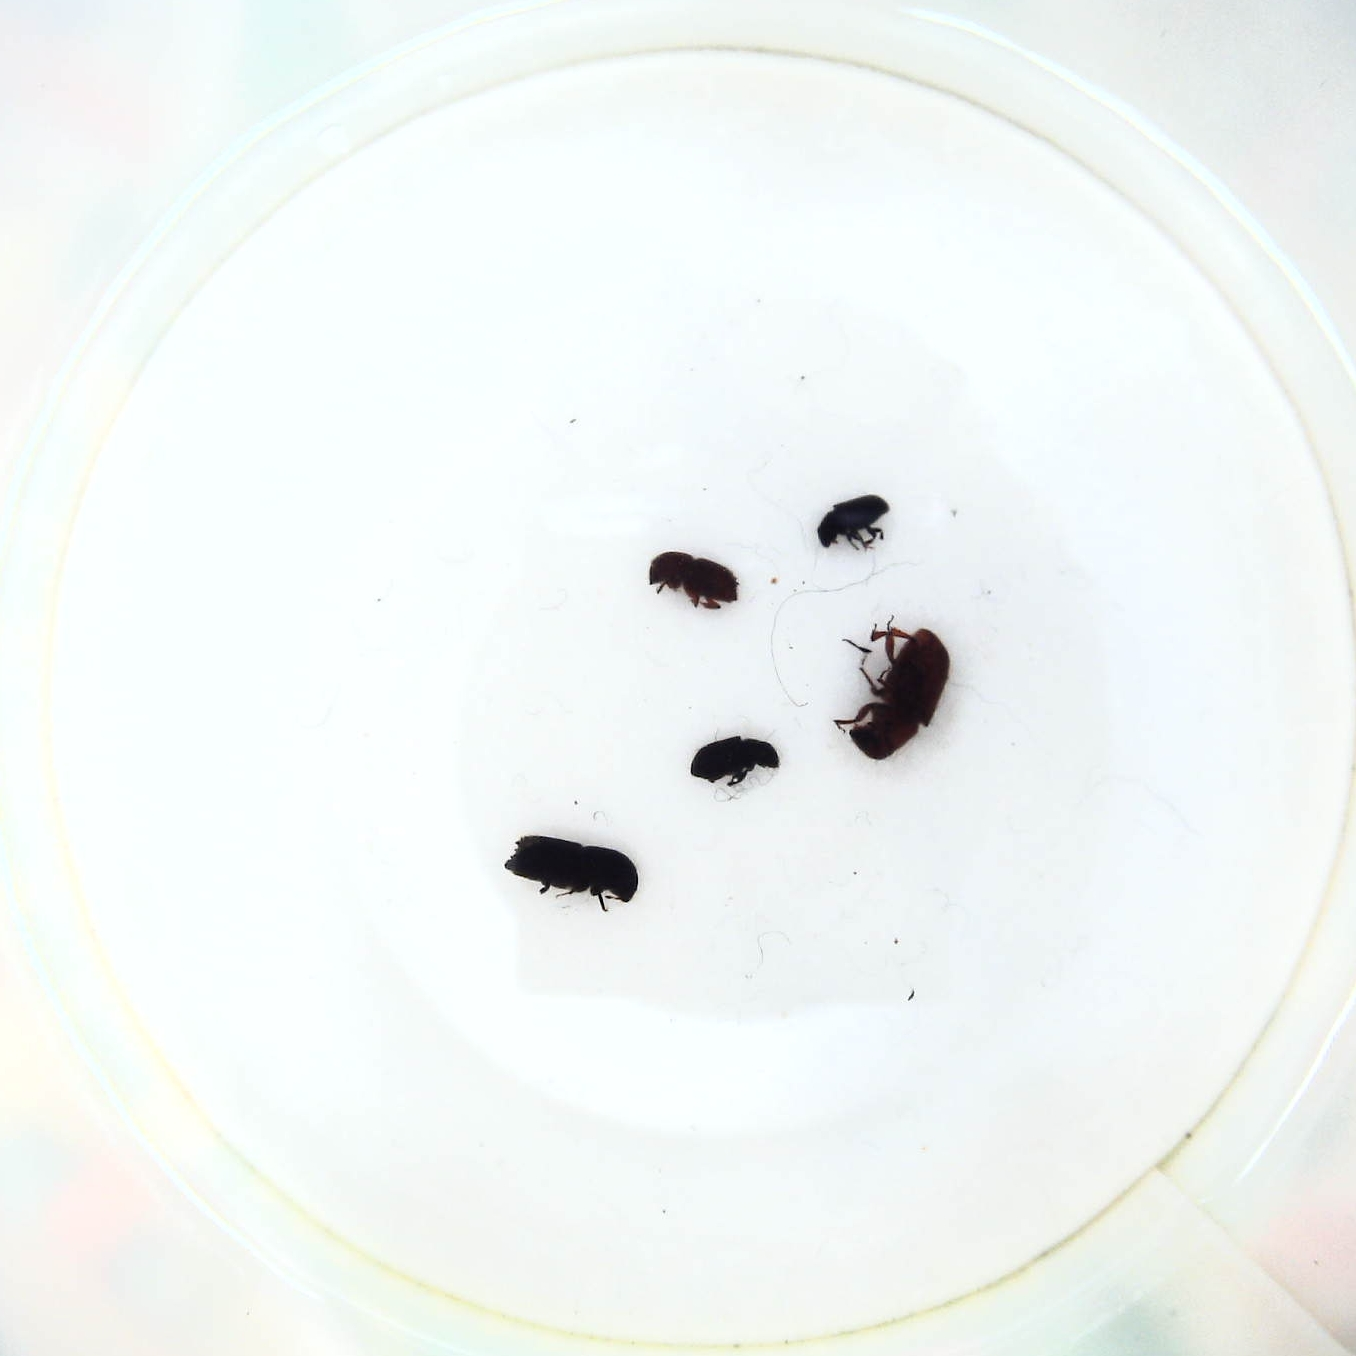Boerner: (505, 829, 644, 918)
Leconte: (834, 616, 957, 767)
armandi: (687, 728, 784, 791)
coleoptera: (813, 494, 894, 558)
linnaeus: (640, 548, 740, 613)
